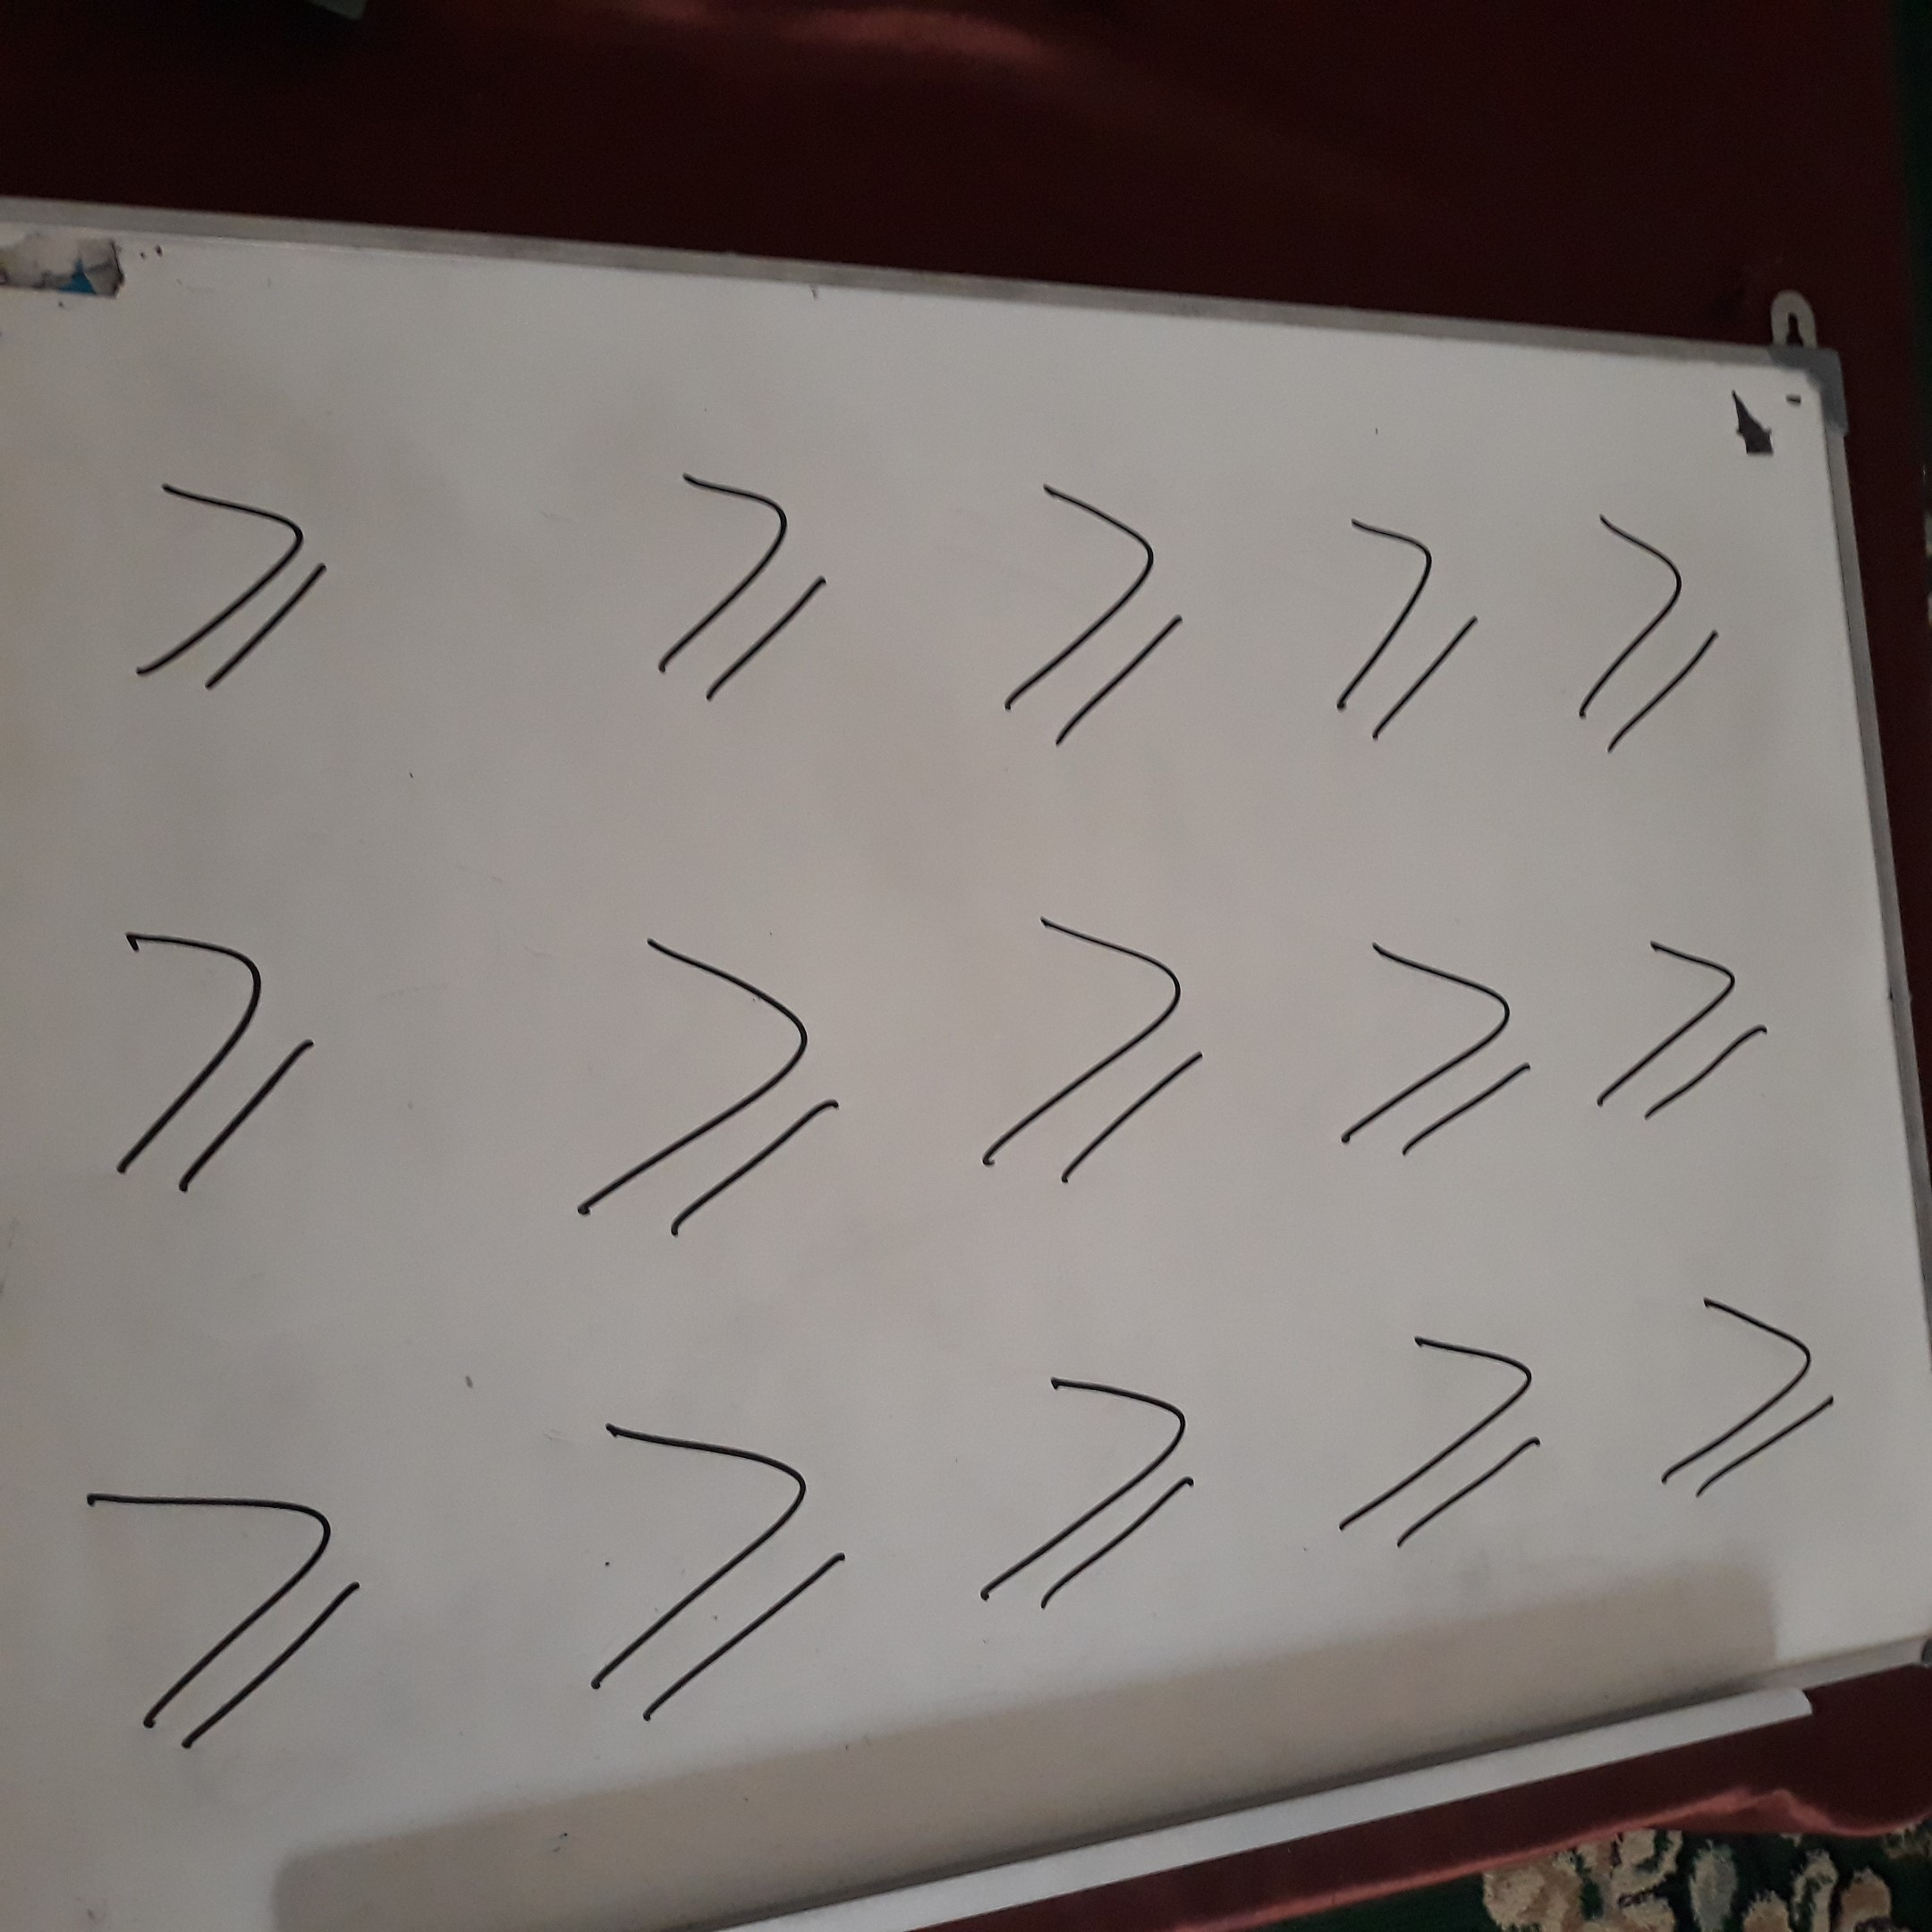morethan-equal: (557, 895, 863, 1260), (934, 863, 1240, 1228), (555, 1408, 880, 1740), (80, 1432, 375, 1758), (82, 887, 357, 1210), (942, 1328, 1219, 1635), (957, 461, 1225, 765), (1306, 901, 1551, 1197), (1577, 886, 1822, 1182), (1320, 1295, 1570, 1573), (106, 455, 351, 724), (605, 442, 849, 710), (1543, 493, 1776, 761), (1289, 493, 1522, 761), (1637, 1265, 1851, 1521)
